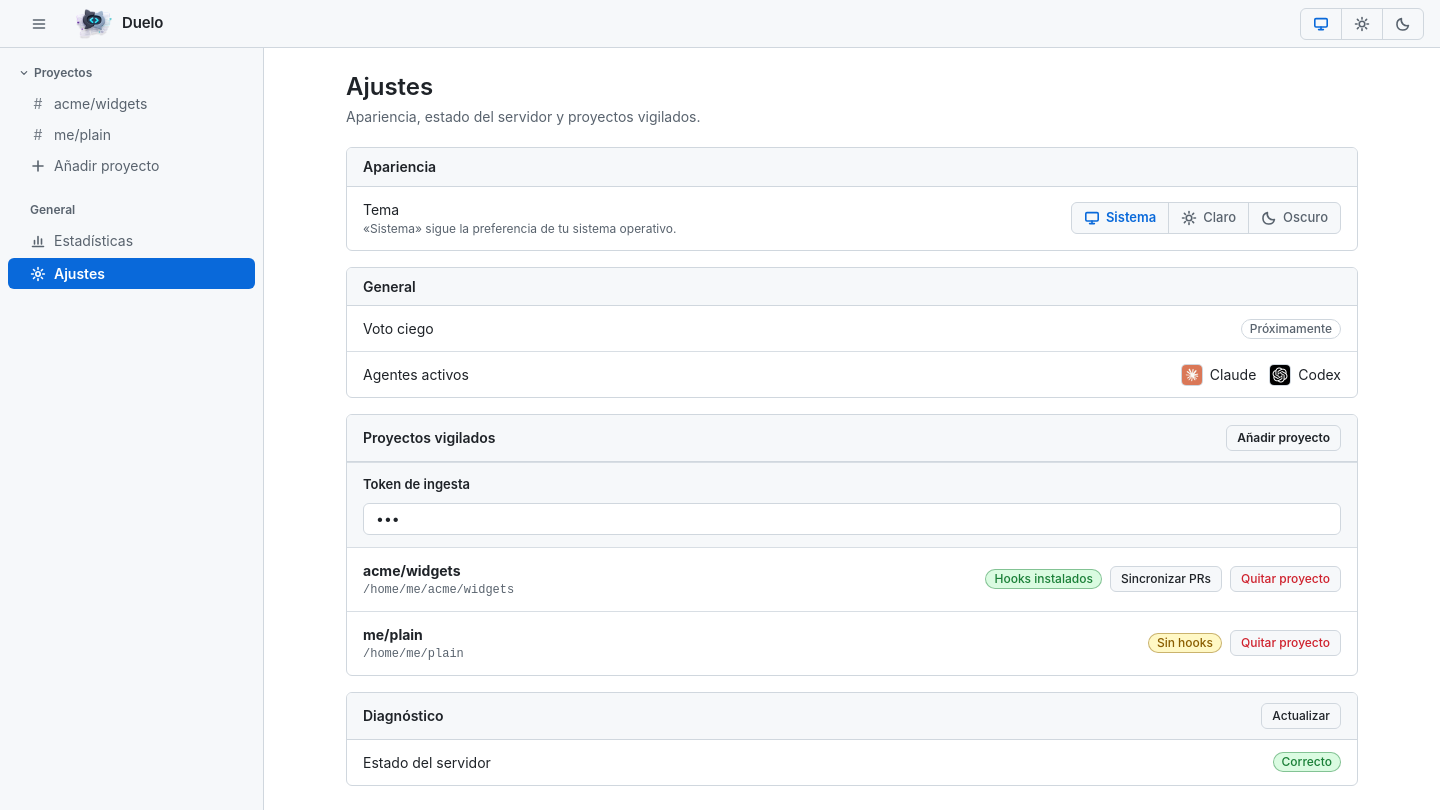
it: project settings › shows why the hooks could not be removed, keeps the project and lets you retry
This screenshot has width=1440, height=810.
Click the button with aria-label "Quitar proyecto acme/widgets": (1286, 579) [1230,566,1341,592]
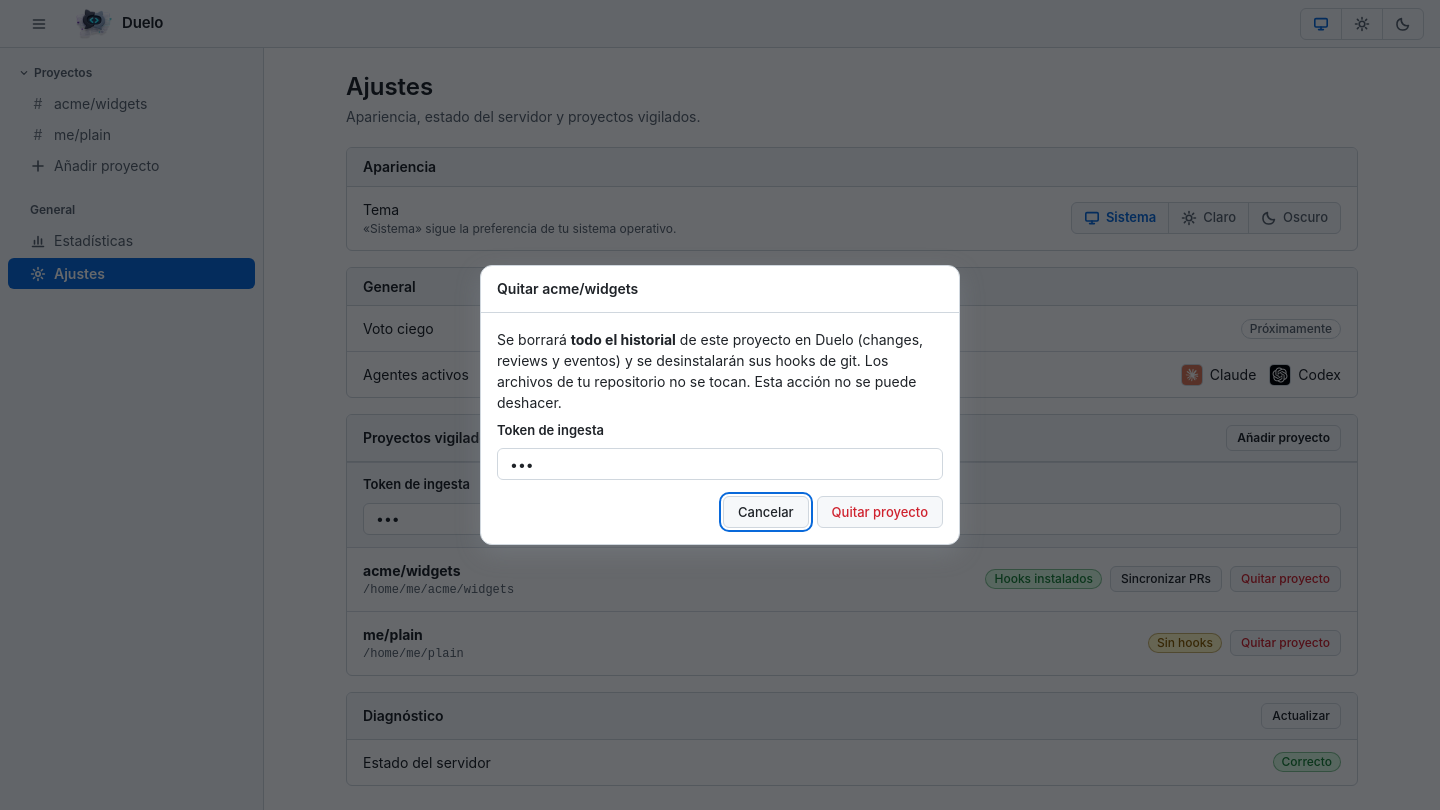
Click the button "Quitar proyecto": (880, 512) [817,496,943,528]
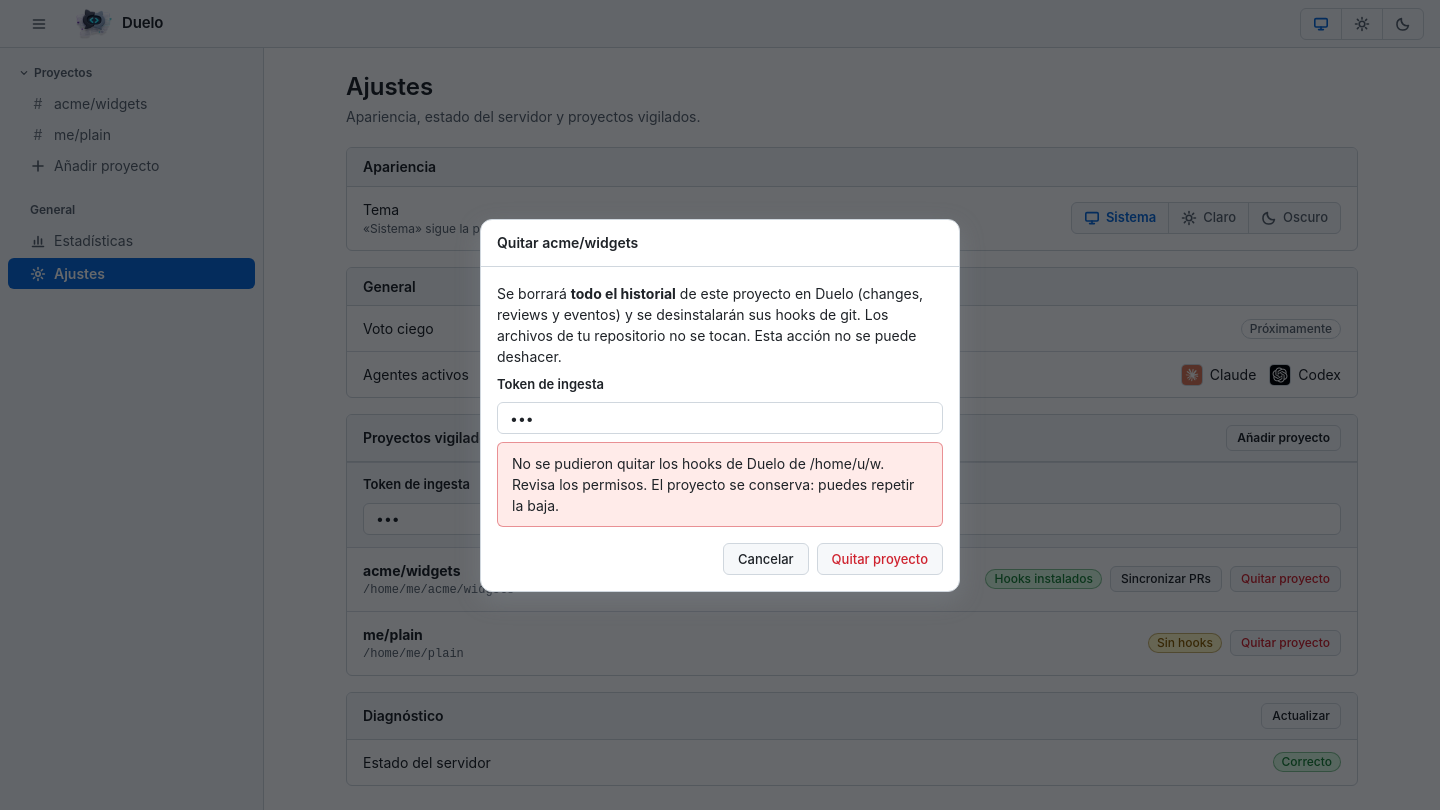
Expected: the text "acme/widgets" is shown once, [363,562,460,578]
Expected: the message shows "No se pudieron quitar los hooks de Duelo de /home/u/w. Revisa los permisos.", [512,454,914,514]
Expected: the message shows "puedes repetir la baja", [512,454,914,514]
Click the button "Quitar proyecto": (880, 558) [817,542,943,574]
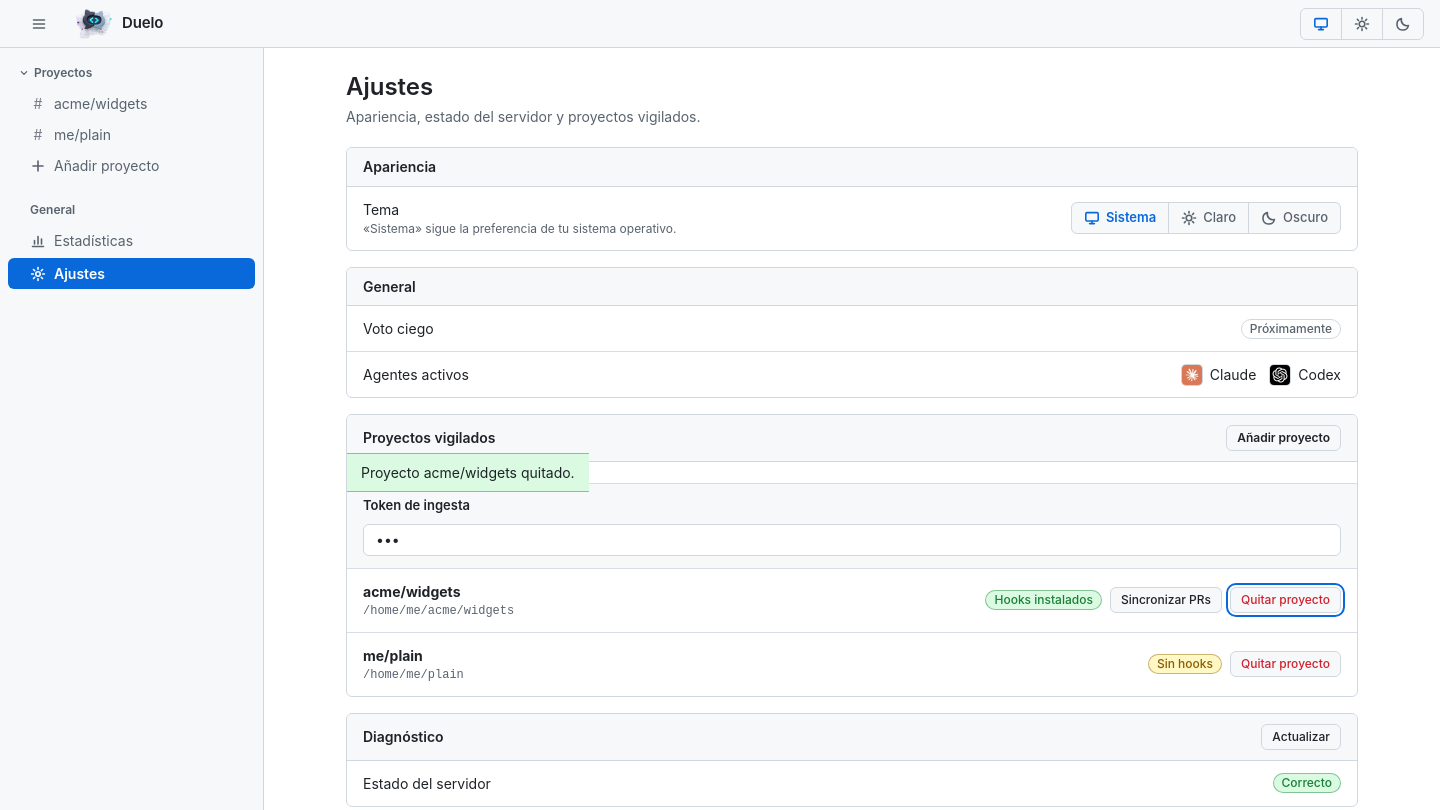
Expected: the text "Proyecto acme/widgets quitado." is shown, [347,453,589,492]
